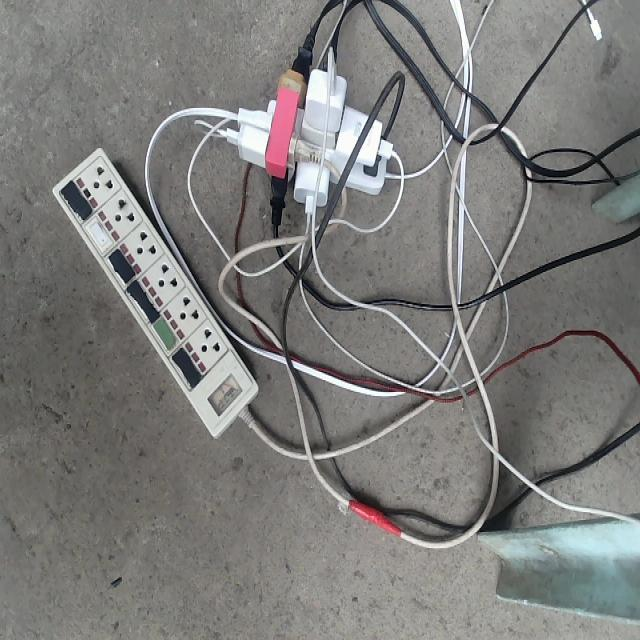-: (180, 11, 438, 297)
